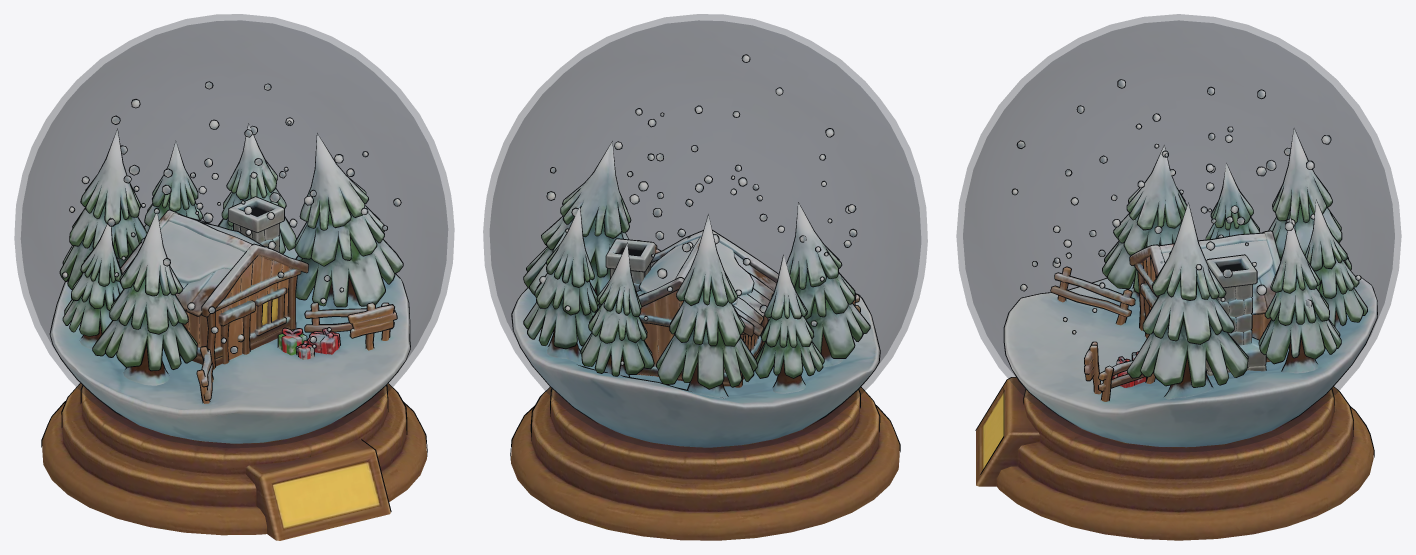
Rendered from ball-transformed.glb.
3 renders of one model, left to right at view 1: azimuth 30°, elevation 25°; view 2: azimuth 150°, elevation 25°; view 3: azimuth 270°, elevation 25°, orthographic.
Parts seen in each view (by area): view 1: glass_glass_0, christmass_ball_inside_0, christmass_ball_ouline_0; view 2: glass_glass_0, christmass_ball_inside_0, christmass_ball_ouline_0; view 3: glass_glass_0, christmass_ball_inside_0, christmass_ball_ouline_0.
Boxes of the visible parts, x1,y1,x2,y2 form: glass_glass_0: [14, 14, 454, 447]; christmass_ball_inside_0: [42, 82, 426, 540]; christmass_ball_ouline_0: [41, 81, 427, 511]; glass_glass_0: [483, 14, 927, 452]; christmass_ball_inside_0: [511, 55, 899, 540]; christmass_ball_ouline_0: [510, 54, 900, 460]; glass_glass_0: [956, 14, 1401, 451]; christmass_ball_inside_0: [976, 80, 1377, 540]; christmass_ball_ouline_0: [975, 79, 1377, 474].
Size of the model in its own units: 200 by 210 by 200.
3 materials, 2 textured.
